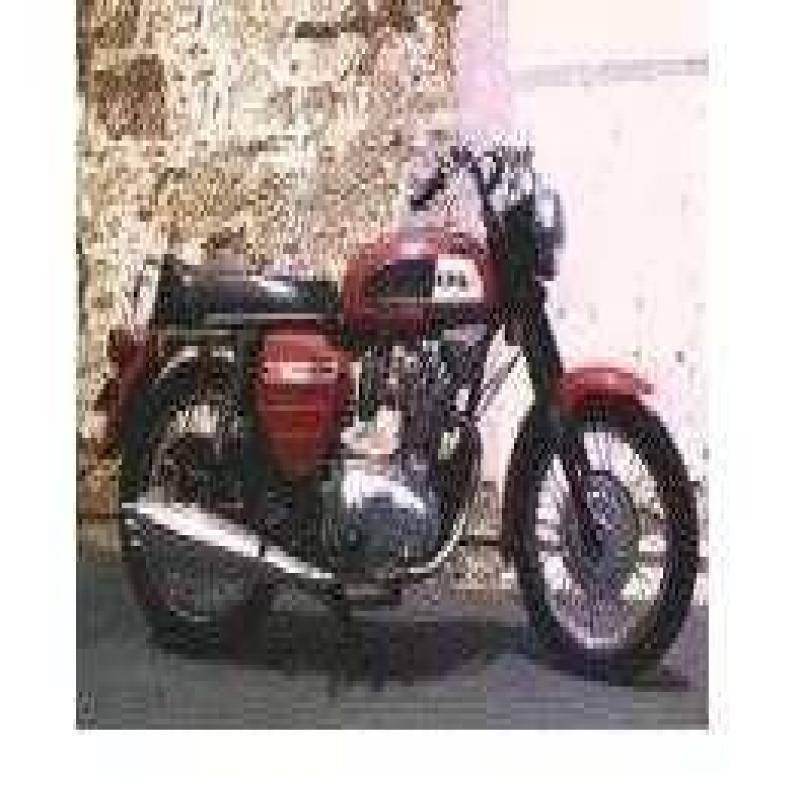bike: (83, 115, 708, 695)
